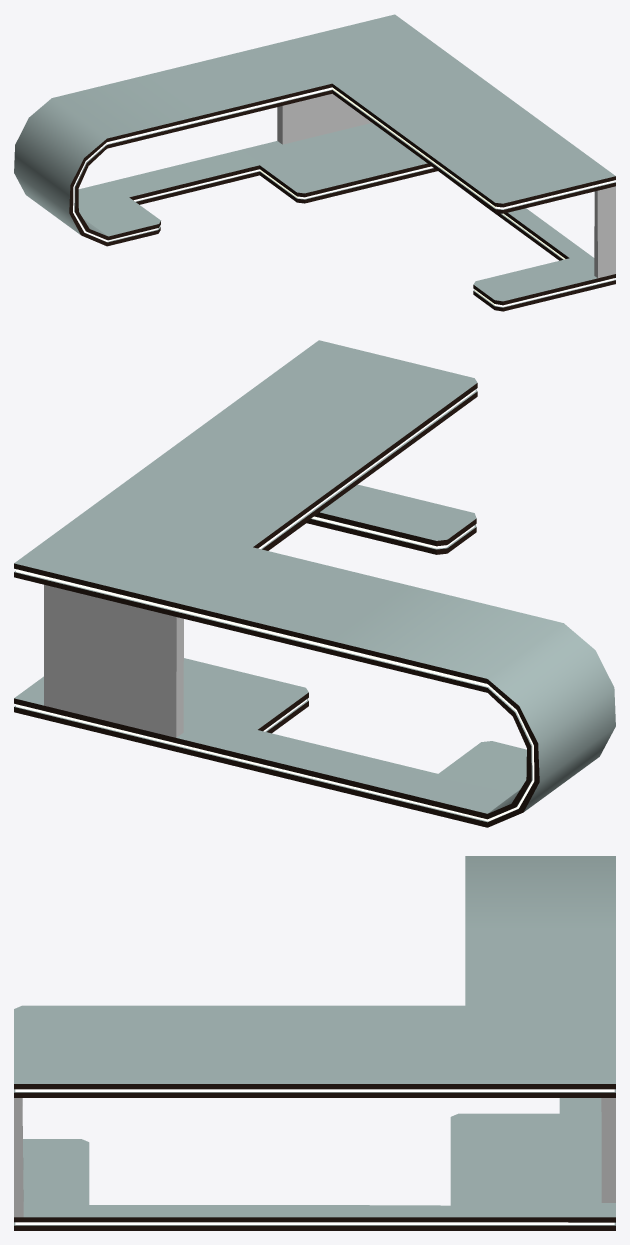
The model's file is MesaL.fbx.
3 renders of one model, top to bottom at view 1: azimuth 30°, elevation 25°; view 2: azimuth 150°, elevation 25°; view 3: azimuth 270°, elevation 25°, orthographic. The views are drawn at different scales.
Visible parts, largest first — view 1: MesaL; view 2: MesaL; view 3: MesaL.
Boxes of the visible parts, box(x1,y1,x2,y2) form: MesaL: box(14, 14, 615, 311); MesaL: box(14, 340, 615, 827); MesaL: box(14, 856, 615, 1230).
Bounding box in the file's own units: 275 × 74.27 × 276.
